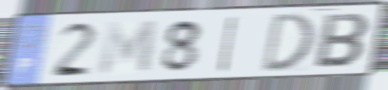2: (45, 21, 101, 79)
8: (159, 18, 204, 74)
B: (312, 12, 372, 69)
D: (259, 11, 317, 75)
I: (215, 14, 240, 75)
M: (96, 18, 159, 78)
